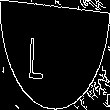L_N: (46, 28, 64, 82)
